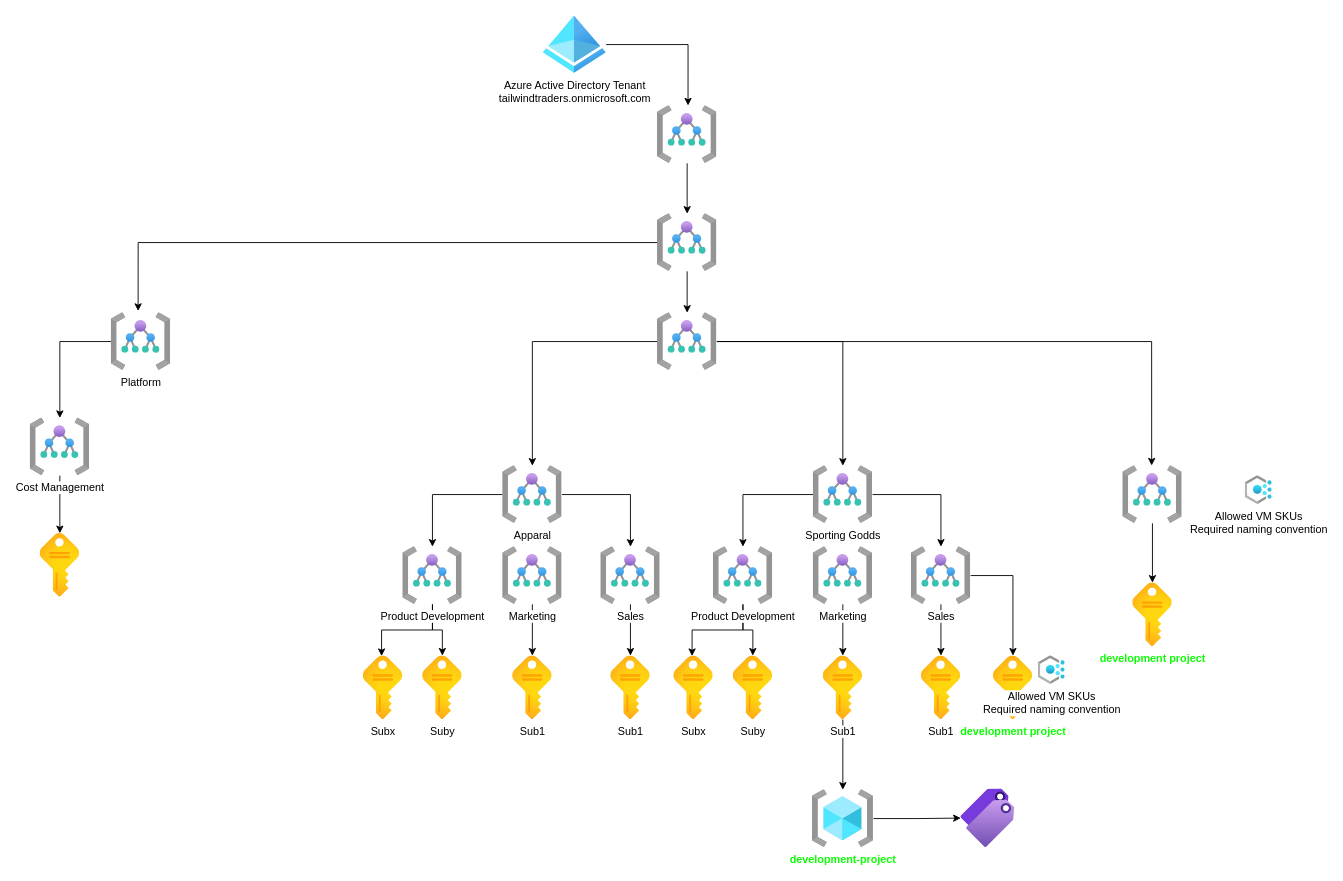
This 1343x881 diagram has some shape labels left out. The centre of each missing label's shape, as x and y in pixels:
"cost-center: development-project" belongs at point (987, 817).
"cost-management" belongs at point (59, 565).
"PoC" belongs at point (1152, 494).
"Tailwind Traders" belongs at point (686, 242).
"Tenant Root Group" belongs at point (686, 134).
"Workload" belongs at point (686, 341).
